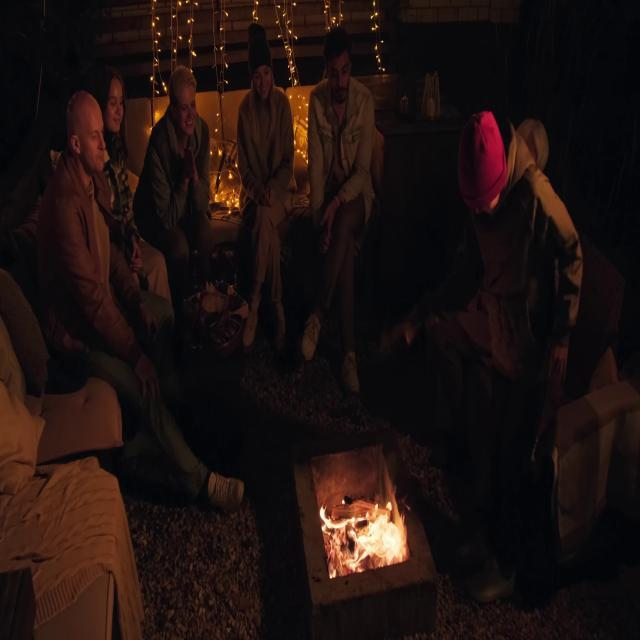Fire: (321, 487, 398, 575)
